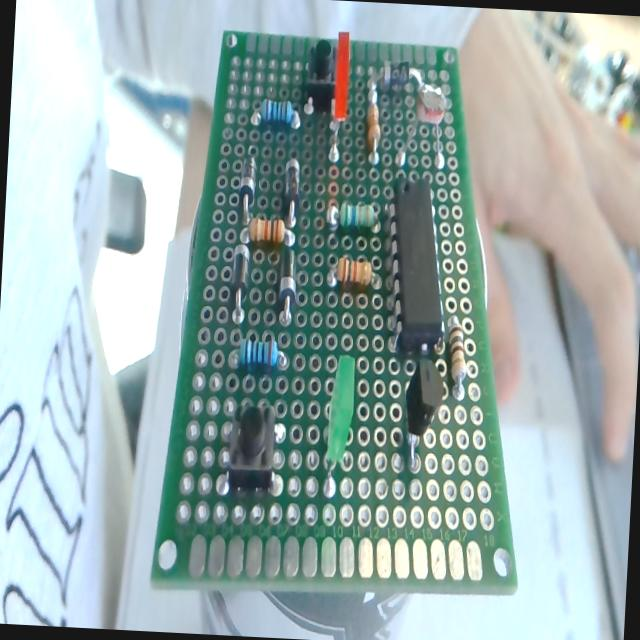IC: (386, 175, 451, 354)
cds: (411, 82, 448, 174)
diode: (276, 246, 299, 326), (372, 57, 412, 97), (230, 243, 250, 322), (282, 158, 302, 225), (238, 156, 256, 224)
led: (322, 354, 358, 494), (328, 31, 353, 160)
resistor: (362, 68, 384, 164), (445, 318, 469, 392), (250, 98, 300, 132), (238, 337, 280, 374), (327, 202, 376, 231), (334, 256, 374, 290), (249, 217, 285, 244)
switch: (225, 400, 278, 496), (303, 38, 338, 114)
transistor: (400, 356, 442, 471)
